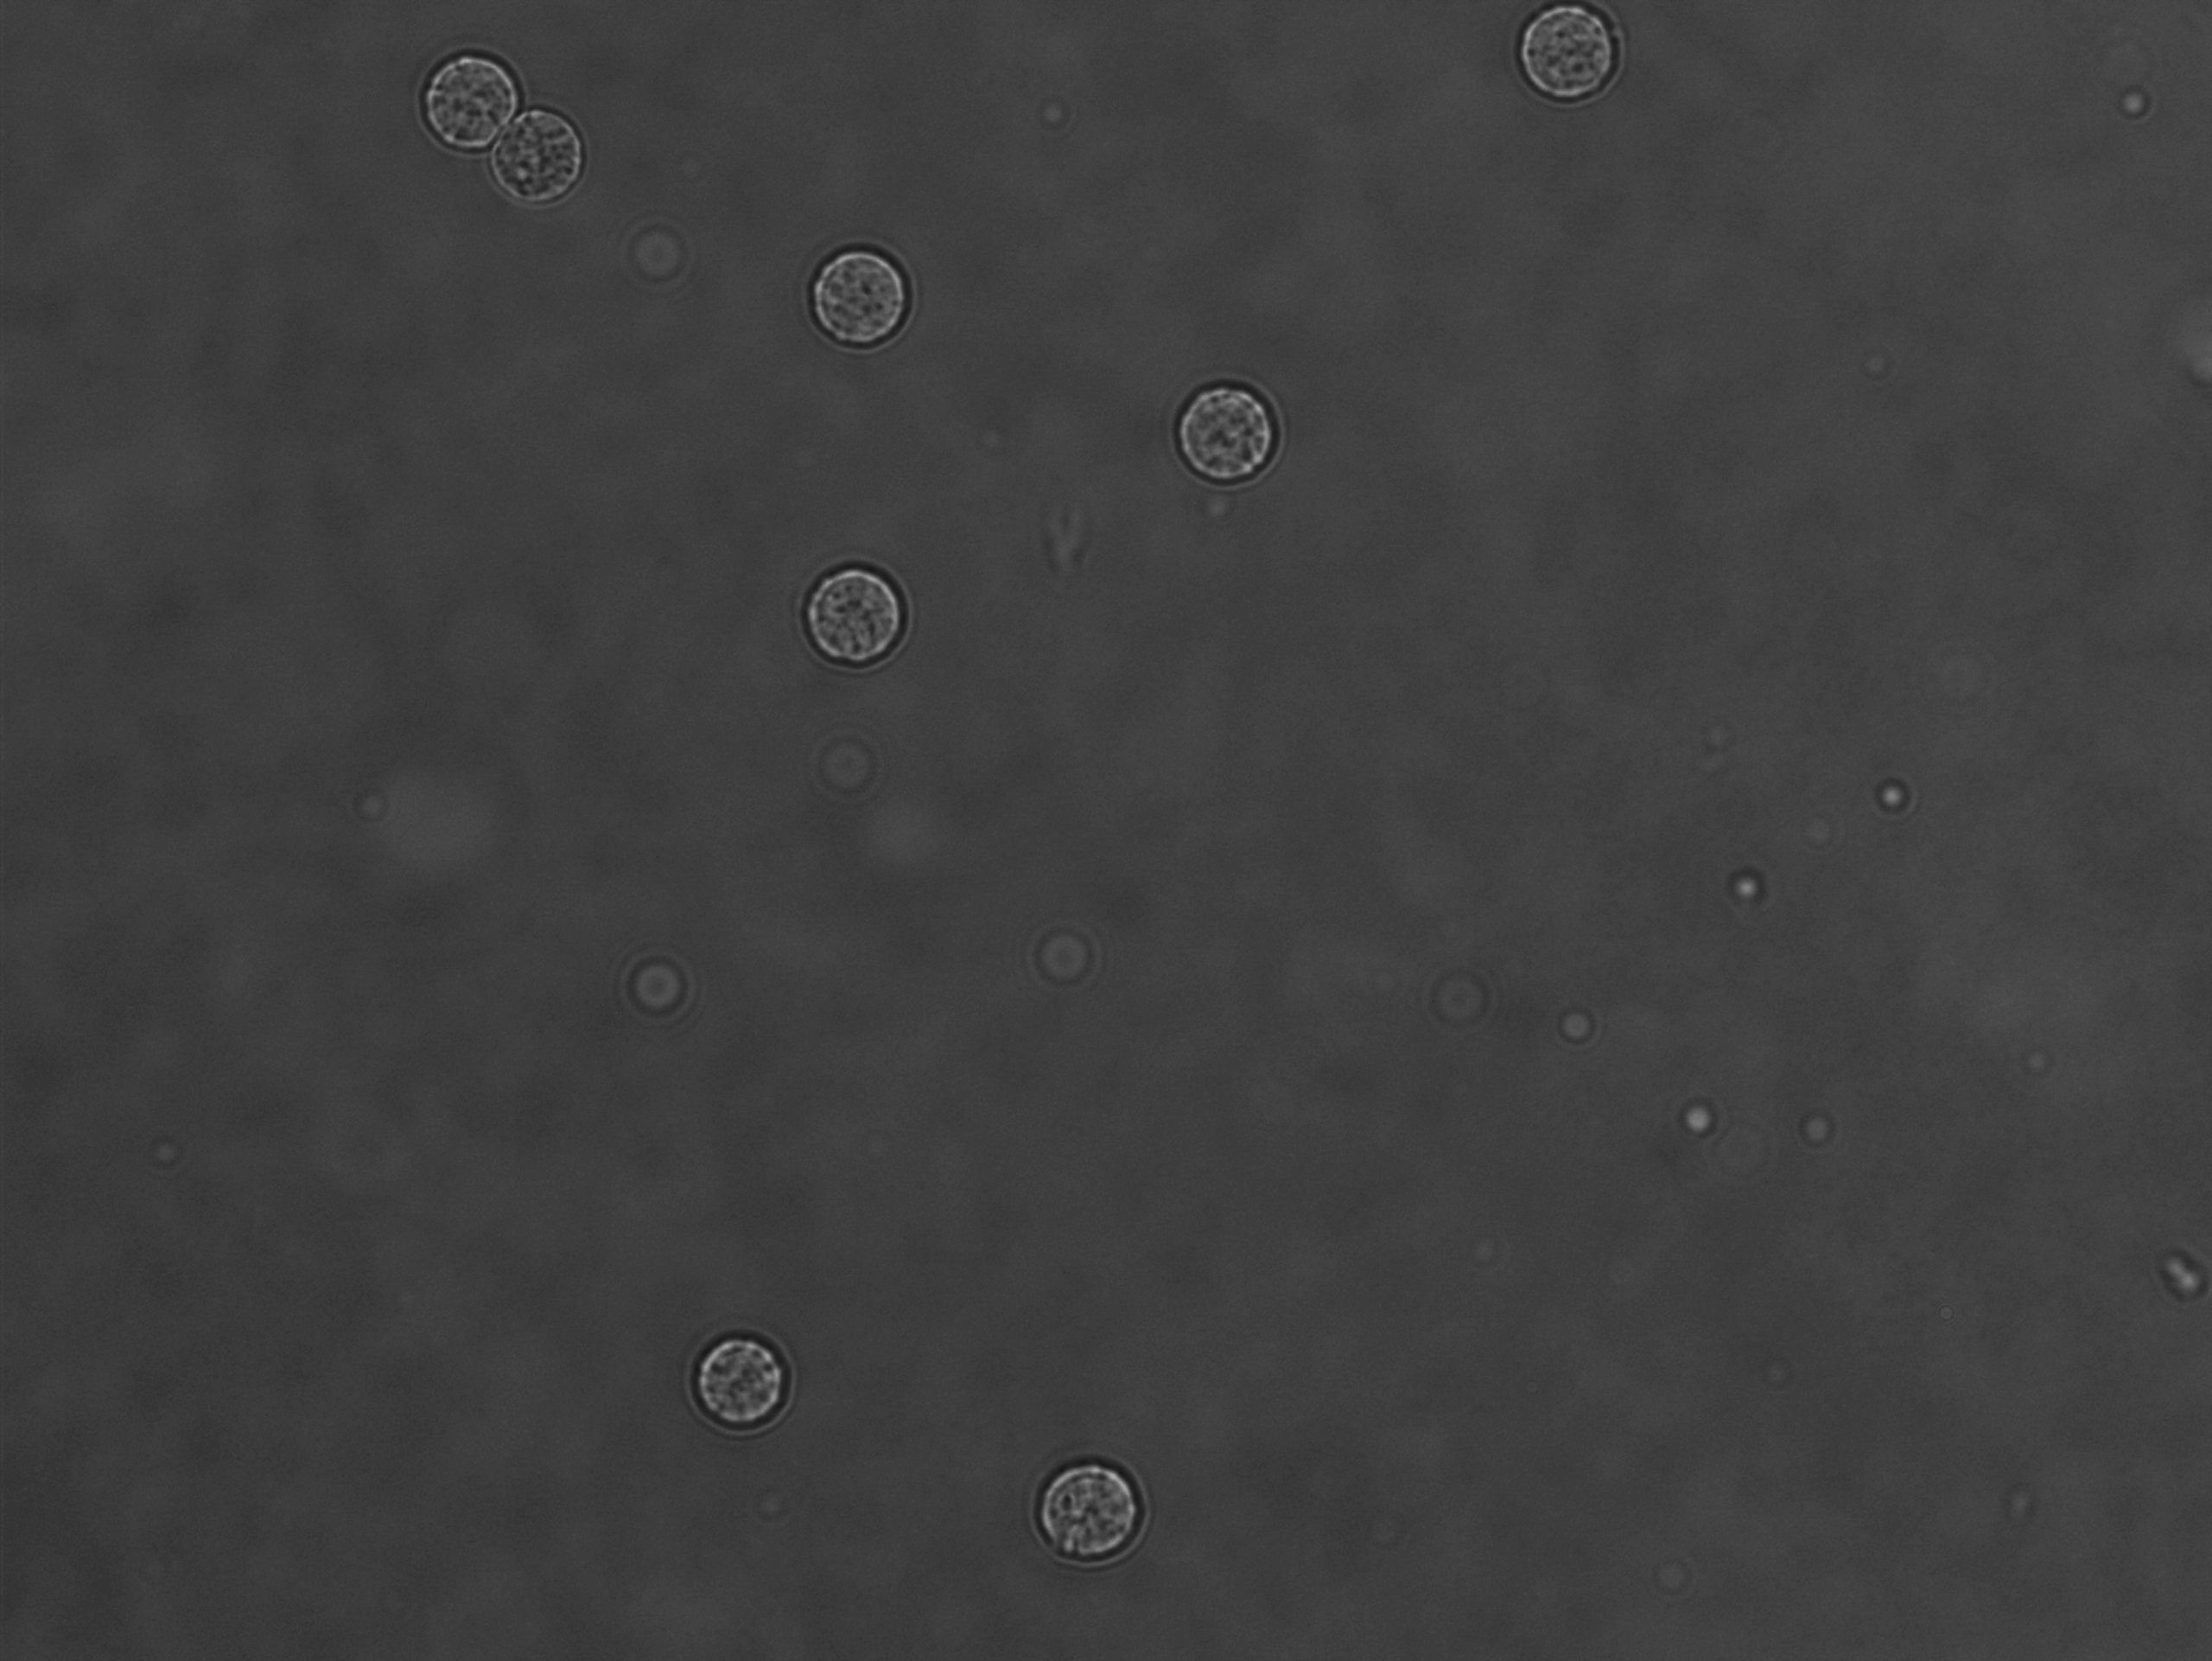depth:0: (1010, 1429, 1181, 1584), (780, 523, 940, 680), (1165, 356, 1308, 502), (673, 1309, 827, 1445), (797, 223, 942, 361), (389, 26, 536, 154), (492, 96, 611, 222)
